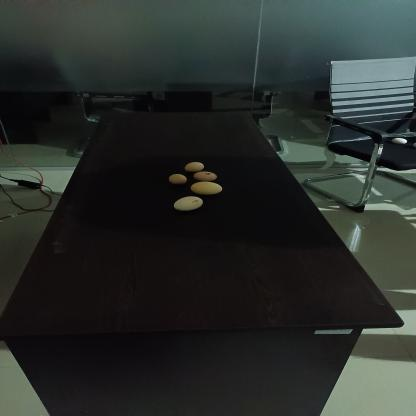egg: (187, 180, 225, 196), (174, 193, 203, 211), (194, 170, 218, 182), (182, 160, 206, 172), (166, 171, 186, 183)
